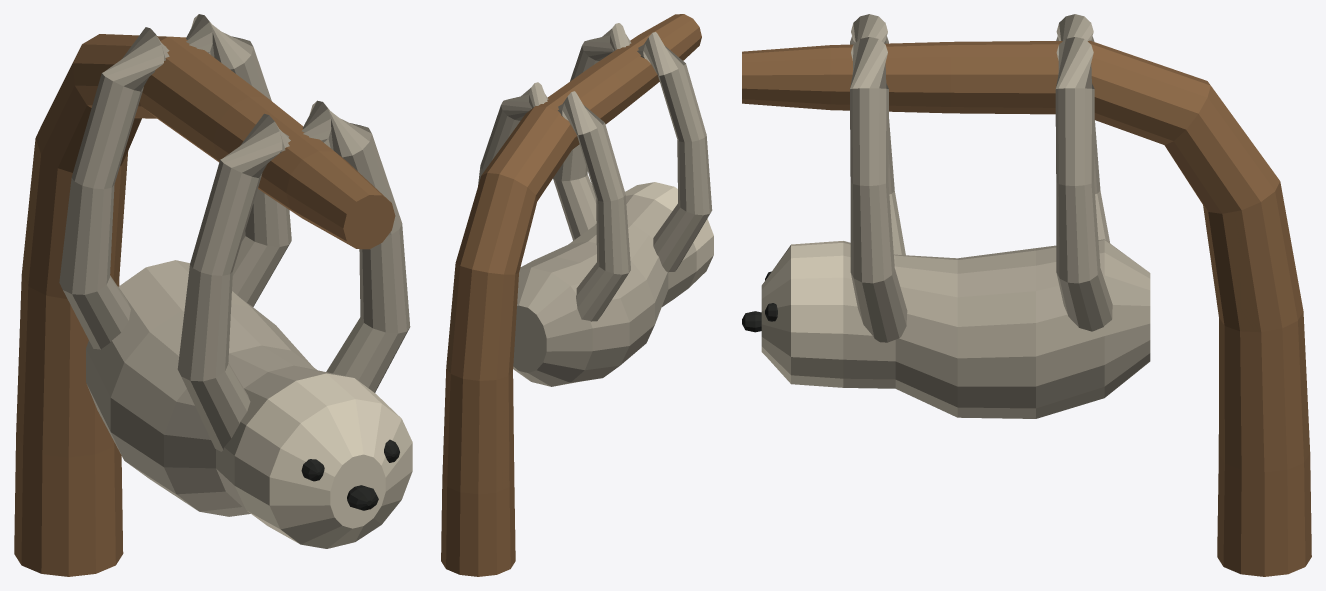
3 renders of one model, left to right at view 1: azimuth 30°, elevation 25°; view 2: azimuth 150°, elevation 25°; view 3: azimuth 270°, elevation 25°, orthographic. The views are drawn at different scales.
Visible parts, largest first — view 1: WholeContinuousBentDisplayBranch, WholeHangingRoundedBodyAndBluntShortFace, WholeCurvedFrontLimbAndHookPaw0, WholeCurvedRearLimbAndHookPaw0, WholeCurvedFrontLimbAndHookPaw1, WholeCurvedRearLimbAndHookPaw1, WholeShortBluntSlothNose; view 2: WholeContinuousBentDisplayBranch, WholeHangingRoundedBodyAndBluntShortFace, WholeCurvedFrontLimbAndHookPaw0, WholeCurvedRearLimbAndHookPaw0, WholeCurvedFrontLimbAndHookPaw1, WholeCurvedRearLimbAndHookPaw1; view 3: WholeContinuousBentDisplayBranch, WholeHangingRoundedBodyAndBluntShortFace, WholeCurvedFrontLimbAndHookPaw1, WholeCurvedRearLimbAndHookPaw1, WholeCurvedFrontLimbAndHookPaw0, WholeCurvedRearLimbAndHookPaw0.
Part boxes in pixels (x1,y1,x2,y2): WholeContinuousBentDisplayBranch: (14, 34, 395, 576); WholeHangingRoundedBodyAndBluntShortFace: (86, 260, 412, 548); WholeCurvedFrontLimbAndHookPaw0: (177, 113, 290, 451); WholeCurvedRearLimbAndHookPaw0: (59, 27, 169, 349); WholeCurvedFrontLimbAndHookPaw1: (302, 100, 410, 392); WholeCurvedRearLimbAndHookPaw1: (186, 14, 291, 306); WholeShortBluntSlothNose: (347, 485, 378, 510); WholeContinuousBentDisplayBranch: (441, 14, 701, 576); WholeHangingRoundedBodyAndBluntShortFace: (513, 182, 713, 386); WholeCurvedFrontLimbAndHookPaw0: (637, 32, 712, 272); WholeCurvedRearLimbAndHookPaw0: (558, 91, 630, 321); WholeCurvedFrontLimbAndHookPaw1: (553, 23, 631, 240); WholeCurvedRearLimbAndHookPaw1: (478, 82, 548, 185); WholeContinuousBentDisplayBranch: (742, 40, 1311, 576); WholeHangingRoundedBodyAndBluntShortFace: (761, 239, 1150, 418); WholeCurvedFrontLimbAndHookPaw1: (850, 37, 907, 342); WholeCurvedRearLimbAndHookPaw1: (1055, 37, 1112, 331); WholeCurvedFrontLimbAndHookPaw0: (850, 14, 905, 255); WholeCurvedRearLimbAndHookPaw0: (1056, 14, 1110, 243).
Size of the model in its own units: 0.6932 by 1.8 by 1.75.
